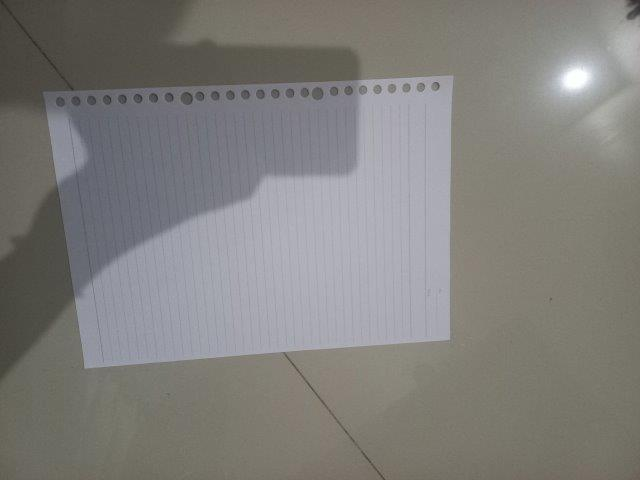kertas: (44, 75, 453, 372)
